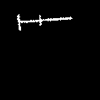double_crochet: (17, 15, 71, 29)
